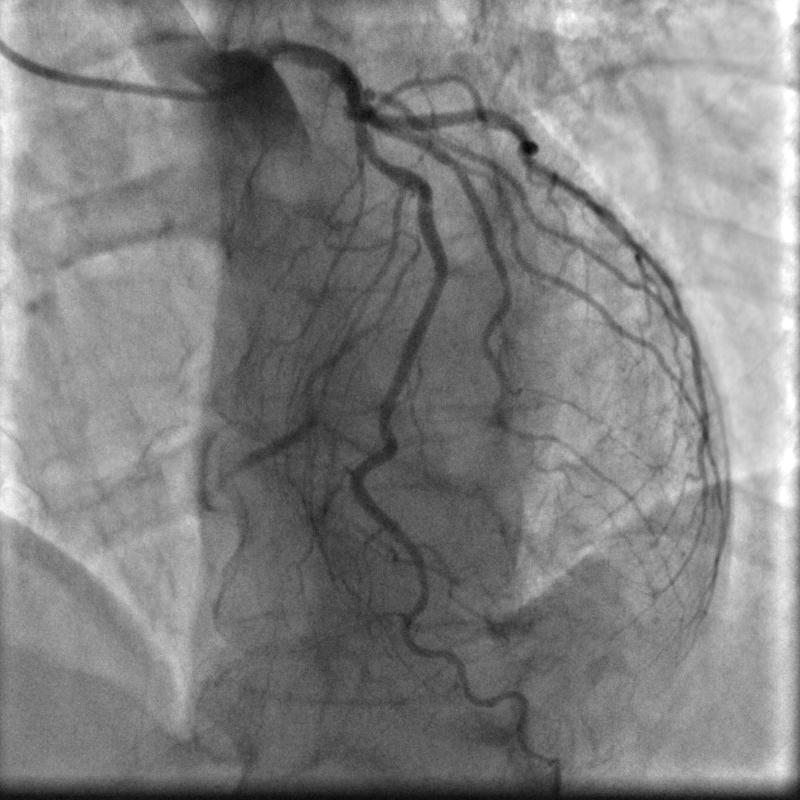Stenosis: (361, 146, 392, 165)
